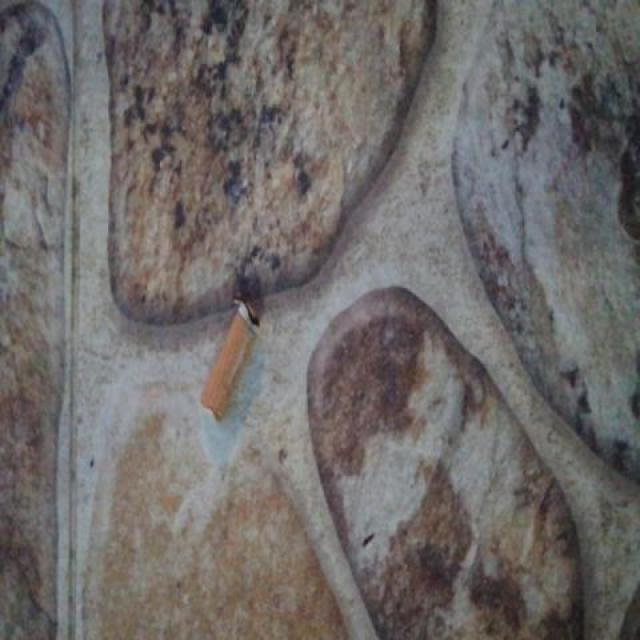non-organic waste: (192, 290, 264, 427)
